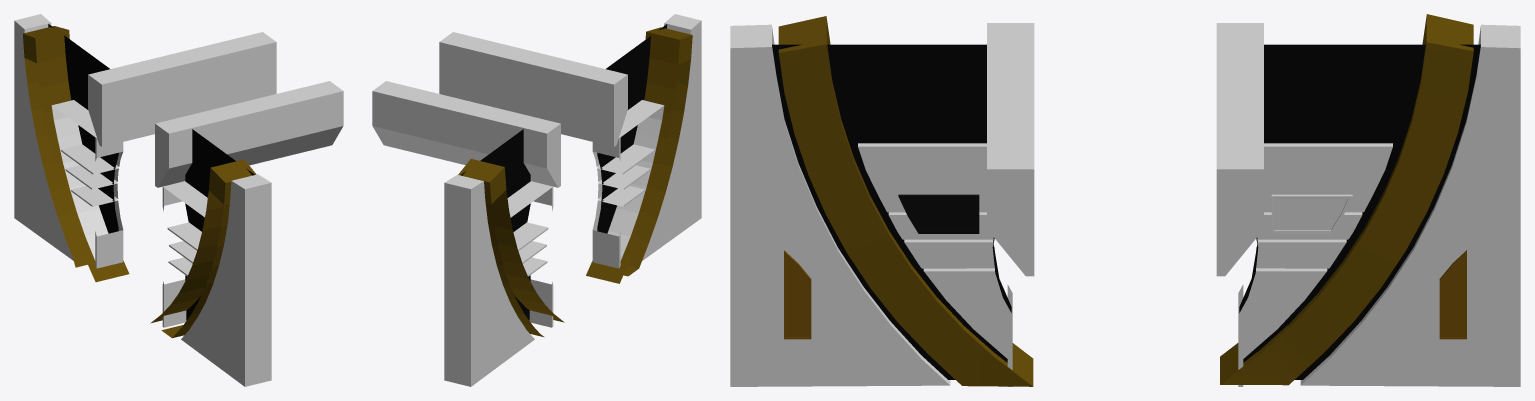
File: Circle_Wall_Next_To_Main_Entrance_Cil_Balcony.fbx
The picture shows the model from 3 angles, left to right: view 1: azimuth 30°, elevation 25°; view 2: azimuth 150°, elevation 25°; view 3: azimuth 270°, elevation 25°; orthographic projection. The views are drawn at different scales.
Parts seen in each view (by area): view 1: Cube.006, Circle.004, Cube.001, Cube, Cube.004, Cube.005, Cube.002, Cube.000, Cube.003; view 2: Cube, Circle.004, Cube.005, Cube.006, Cube.002, Cube.001, Cube.004, Cube.003, Cube.000; view 3: Circle.004, Cube.001, Cube.005, Cube.000, Cube.003, Cube.004, Cube.002, Cube.006, Cube, Circle.007, Circle.006, Circle.000 (+1 smaller).
Boxes of the visible parts, box(x1,y1,x2,y2) form: Cube.006: box(88, 32, 276, 146); Circle.004: box(23, 26, 256, 338); Cube.001: box(181, 174, 271, 386); Cube: box(155, 81, 343, 187); Cube.004: box(51, 100, 123, 268); Cube.005: box(14, 14, 73, 260); Cube.002: box(162, 181, 207, 327); Cube.000: box(48, 24, 118, 233); Cube.003: box(185, 129, 254, 320); Cube: box(439, 32, 627, 146); Circle.004: box(458, 27, 692, 337); Cube.005: box(444, 174, 534, 386); Cube.006: box(372, 81, 560, 187); Cube.002: box(592, 100, 664, 268); Cube.001: box(642, 14, 701, 260); Cube.004: box(507, 181, 553, 327); Cube.003: box(597, 24, 667, 233); Cube.000: box(460, 129, 530, 320); Circle.004: box(778, 14, 1473, 386); Cube.001: box(730, 24, 950, 386); Cube.005: box(1300, 24, 1520, 386); Cube.000: box(1239, 44, 1480, 379); Cube.003: box(772, 44, 1011, 379); Cube.004: box(1238, 143, 1392, 386); Cube.002: box(858, 143, 1012, 386); Cube.006: box(1216, 23, 1263, 276); Cube: box(987, 23, 1034, 276); Circle.007: box(1271, 194, 1352, 233); Circle.006: box(898, 194, 979, 233); Circle.000: box(1439, 250, 1466, 339).
Size of the model in its own units: 832 by 890 by 1846.
